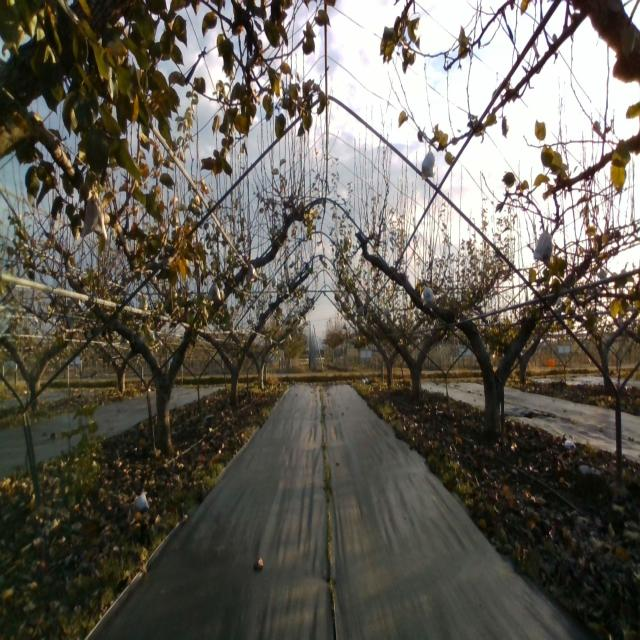pearbags: (82, 191, 108, 242), (534, 225, 554, 267), (421, 144, 434, 181), (206, 279, 222, 302), (422, 282, 436, 306), (246, 260, 258, 284)
